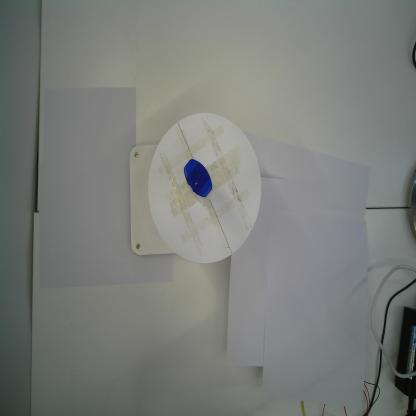Personal Hygiene: (184, 158, 212, 200)
